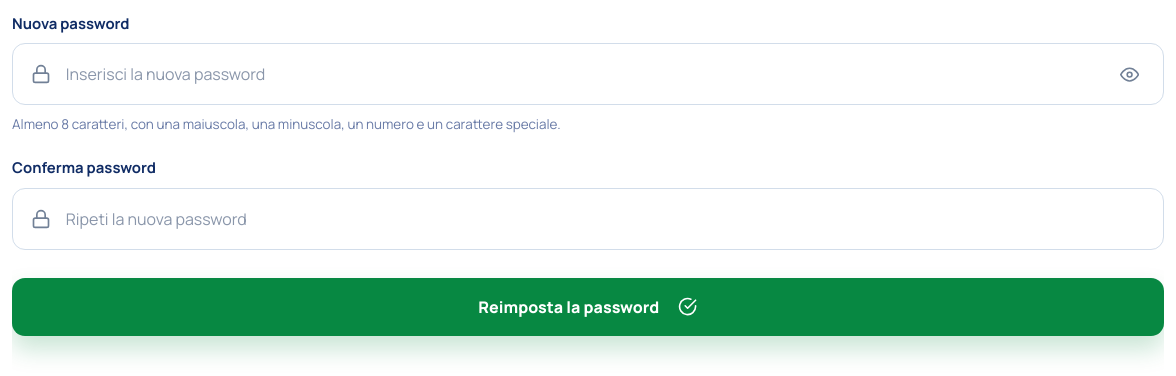
Test: ResetPasswordForm › percorso felice › invia token e password, poi mostra la conferma
This screenshot has width=1176, height=376.
Type "Password1!" into the password field labelled "Nuova password" at (583, 74), box x1=66 y1=62 x2=1100 y2=86
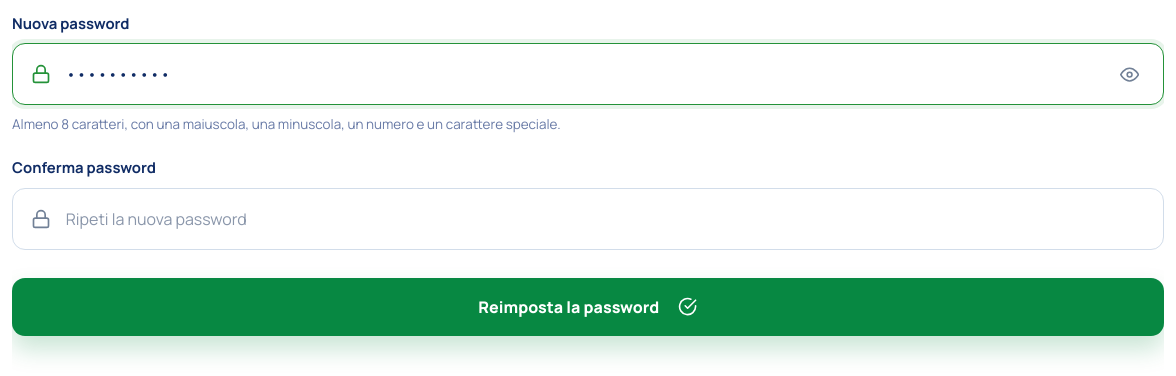
Type "Password1!" into the password field labelled "Conferma password" at (605, 219), box x1=66 y1=207 x2=1145 y2=231
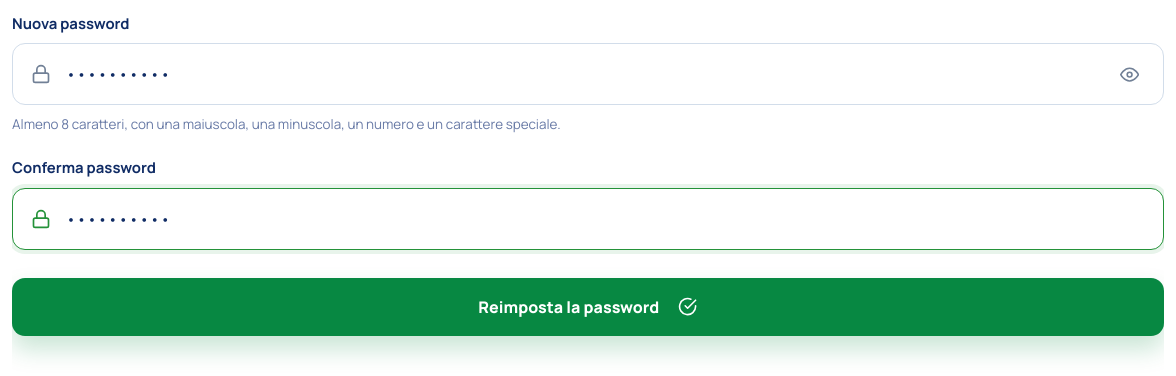
Click the button "Reimposta la password" at (588, 306), box x1=12 y1=278 x2=1164 y2=336
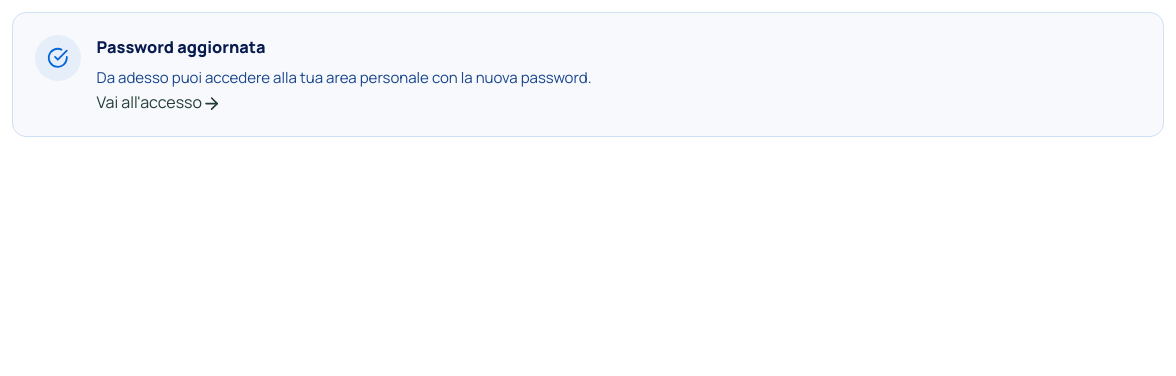
expect the text "Password aggiornata" is shown: met, box x1=97 y1=36 x2=266 y2=58
